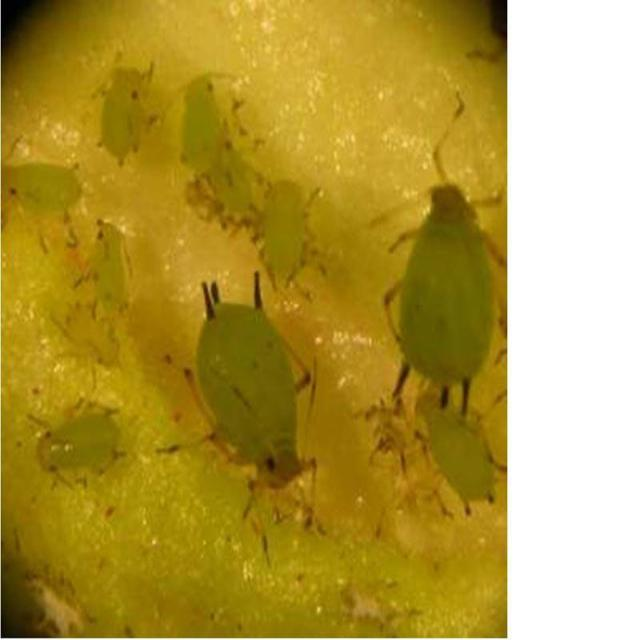Aphids: (151, 251, 344, 552), (378, 164, 501, 400)
